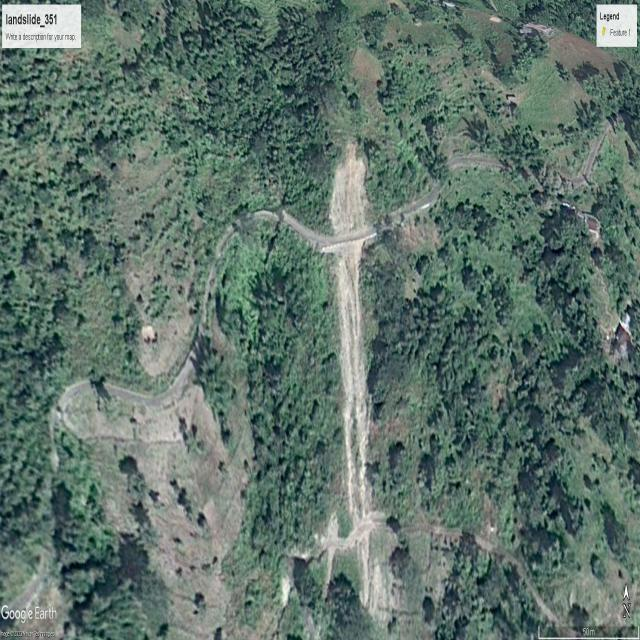Landslide: (333, 258, 380, 518), (333, 149, 372, 223)
